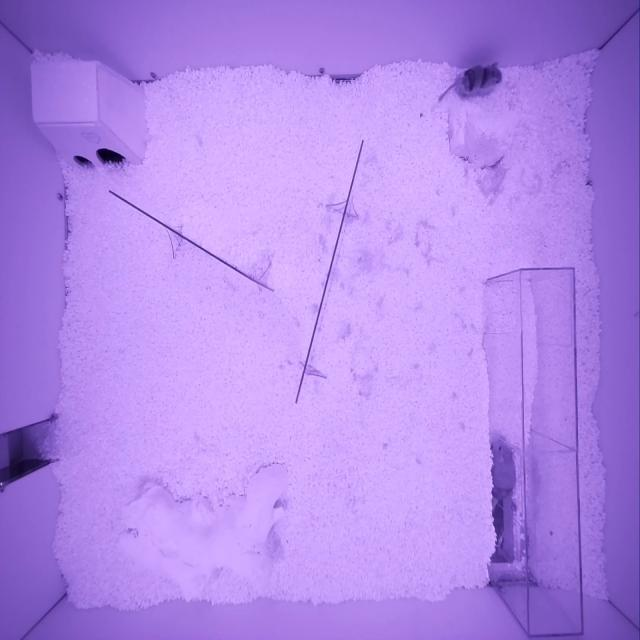adult_back: (491, 434, 517, 501)
pup_h_stripe: (453, 62, 502, 101)
